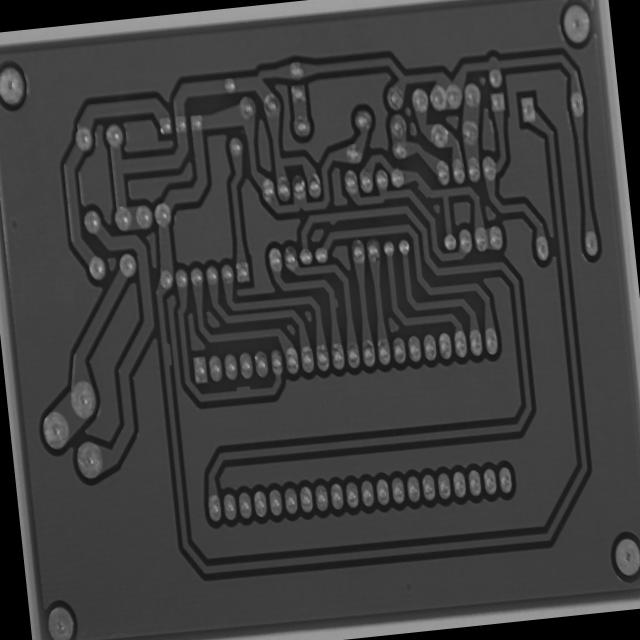spur: (157, 336, 175, 372), (413, 178, 432, 202), (232, 381, 254, 400), (323, 209, 343, 227), (326, 292, 342, 312)
